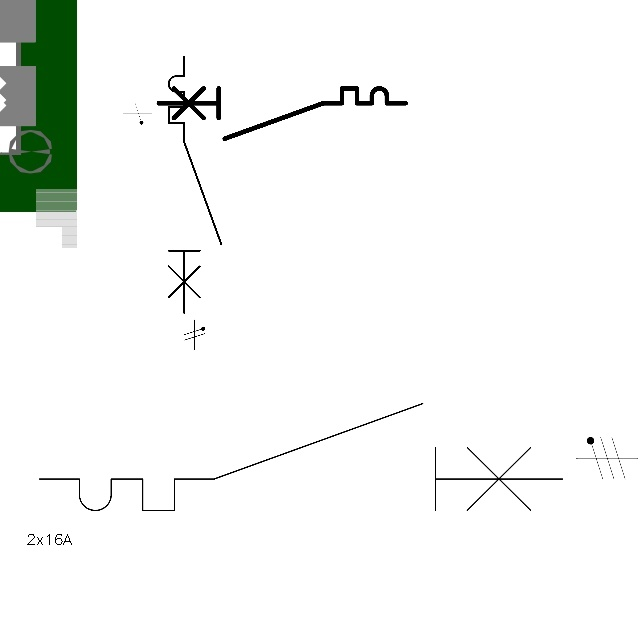interruptor_termomagnetico: (26, 390, 575, 524), (162, 50, 228, 319), (152, 82, 412, 145)
